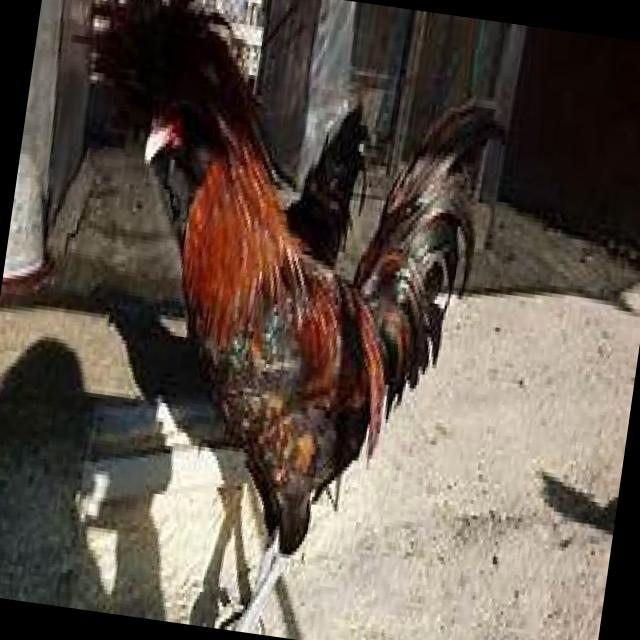chicken: (6, 0, 517, 576)
